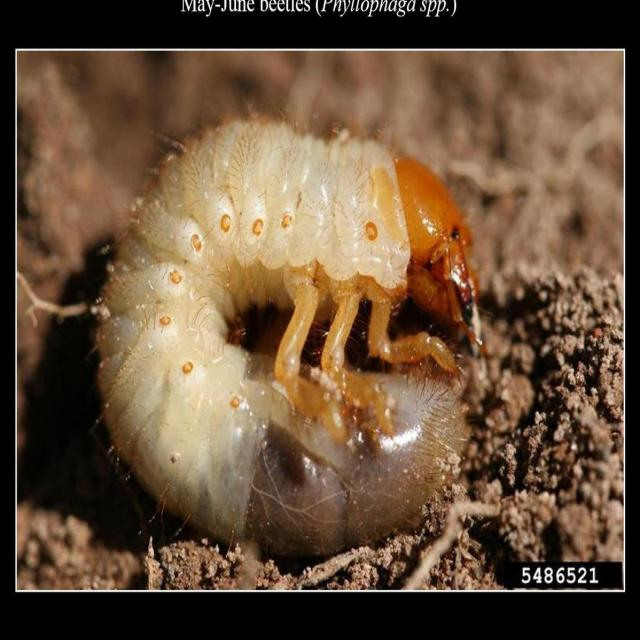Grub-Adult-: (79, 105, 490, 556)
